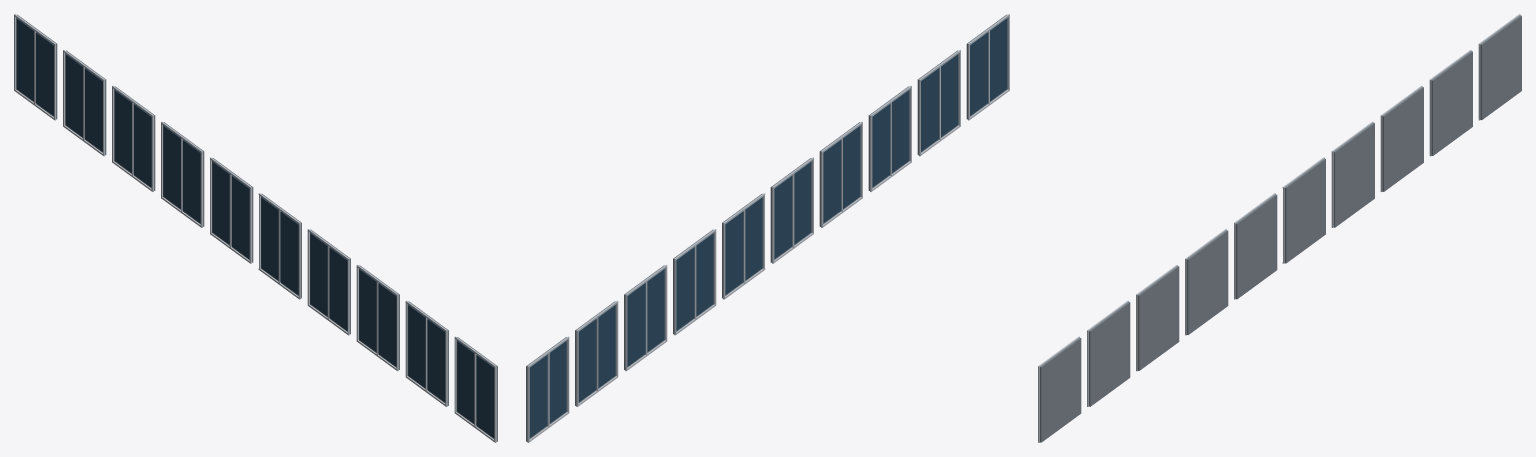
Rendered from SM_MPR4_OfficeGlazing_West.fbx.
The picture shows the model from 3 angles, left to right: view 1: azimuth 30°, elevation 25°; view 2: azimuth 150°, elevation 25°; view 3: azimuth 330°, elevation 25°; orthographic projection.
Parts seen in each view (by area): view 1: SM_MPR4_OfficeGlazing_West; view 2: SM_MPR4_OfficeGlazing_West; view 3: SM_MPR4_OfficeGlazing_West.
Boxes of the visible parts, x1,y1,x2,y2 form: SM_MPR4_OfficeGlazing_West: (14, 14, 497, 442); SM_MPR4_OfficeGlazing_West: (526, 14, 1009, 442); SM_MPR4_OfficeGlazing_West: (1038, 14, 1521, 442).
Size of the model in its own units: 10.5 by 2950 by 259.
